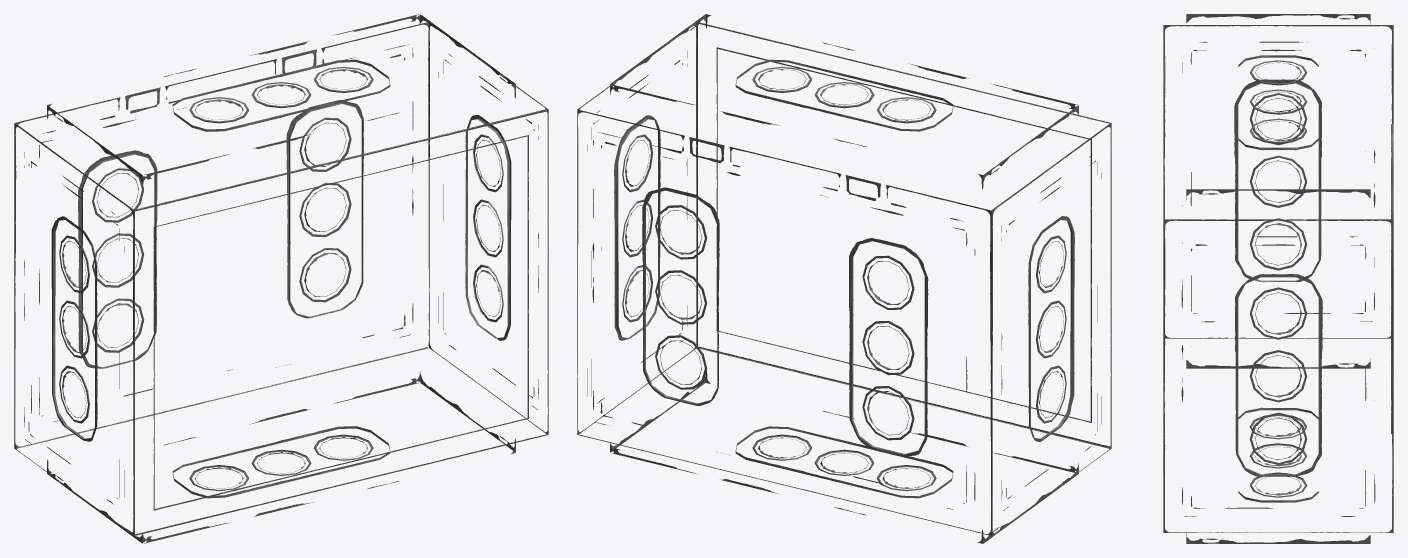
Rendered from rotanev_rcs_block_srf_1.obj.
3 renders of one model, left to right at view 1: azimuth 30°, elevation 25°; view 2: azimuth 150°, elevation 25°; view 3: azimuth 270°, elevation 25°, orthographic. The views are drawn at different scales.
Parts seen in each view (by area): view 1: rotanev_rcs_block_srf_1; view 2: rotanev_rcs_block_srf_1; view 3: rotanev_rcs_block_srf_1.
Boxes of the visible parts, left/top/right/bottom form: rotanev_rcs_block_srf_1: left=14, top=14, right=548, bottom=543; rotanev_rcs_block_srf_1: left=577, top=14, right=1111, bottom=543; rotanev_rcs_block_srf_1: left=1163, top=14, right=1393, bottom=543.
Size of the model in its own units: 1 by 0.85 by 0.55.
